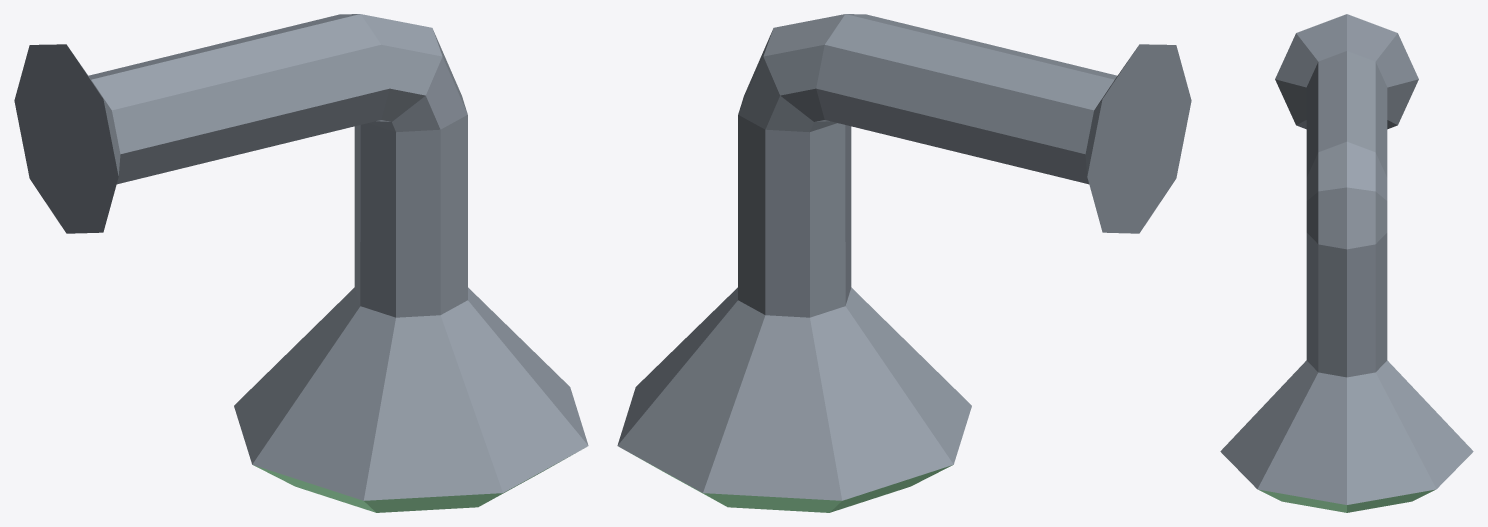
File: showerhead.glb
3 renders of one model, left to right at view 1: azimuth 30°, elevation 25°; view 2: azimuth 150°, elevation 25°; view 3: azimuth 270°, elevation 25°, orthographic. The views are drawn at different scales.
Visible parts, largest first — view 1: showerhead; view 2: showerhead; view 3: showerhead.
Boxes of the visible parts, box(x1,y1,x2,y2) form: showerhead: box(14, 14, 588, 512); showerhead: box(617, 14, 1191, 512); showerhead: box(1220, 14, 1473, 512).
Bounding box in the file's own units: 0.8931 × 0.861 × 0.5639.
Materials: 2 (2 with a texture image).
